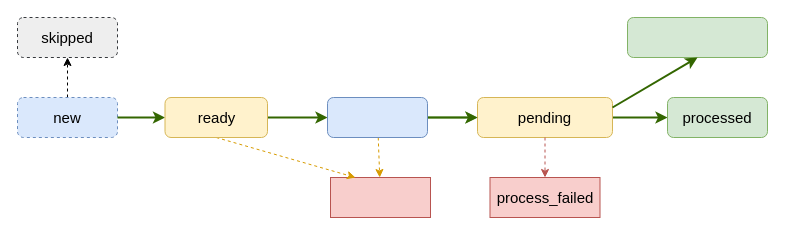
The diagram is 785 pixels wide and 235 high, and some of its shapes have lost their labels. Here are the shapes that lost their labels. From the top down, the box of each, then its label:
(626, 16, 768, 58): partially_processed
(326, 96, 428, 138): queued
(330, 176, 430, 218): terminated
